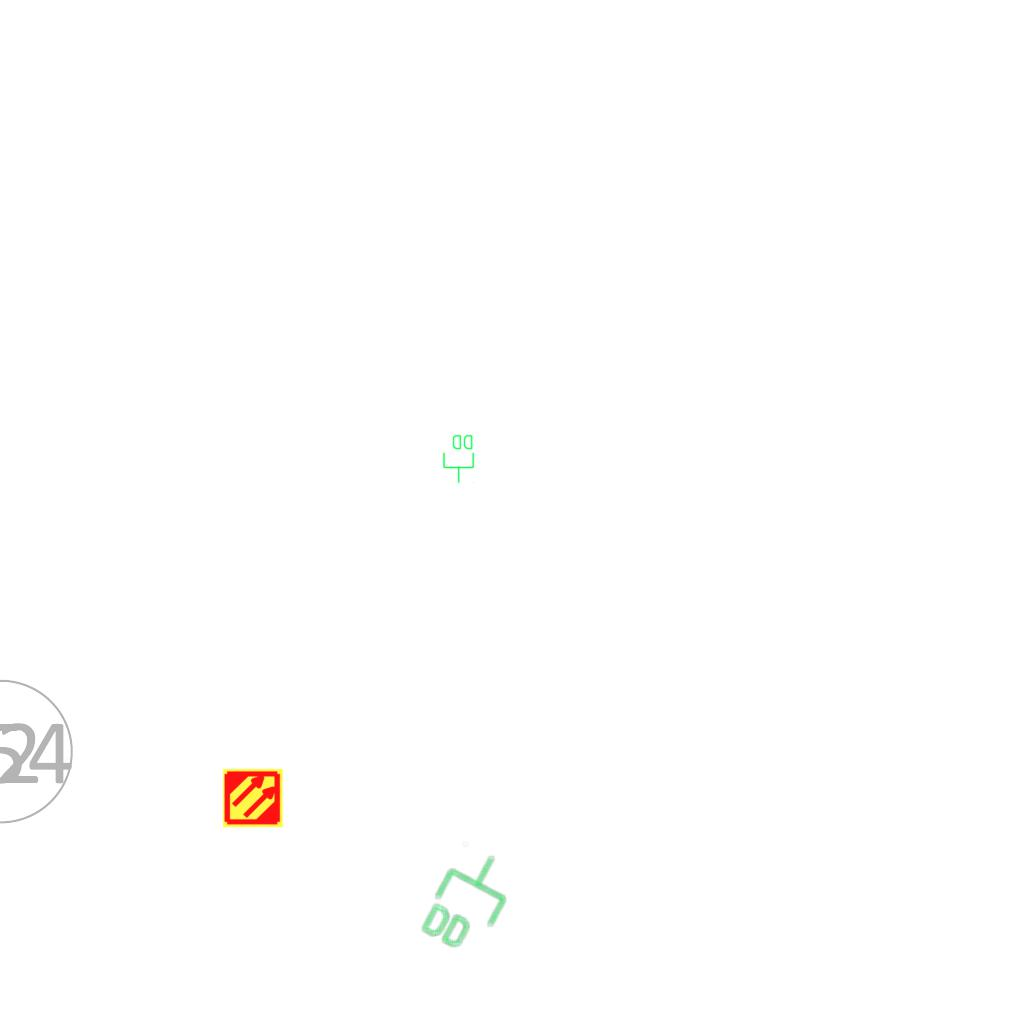ASR_Ansaugrauchmelder: (222, 767, 284, 829)
Datenanschluss_zweifach: (413, 838, 524, 963), (442, 433, 476, 484)
